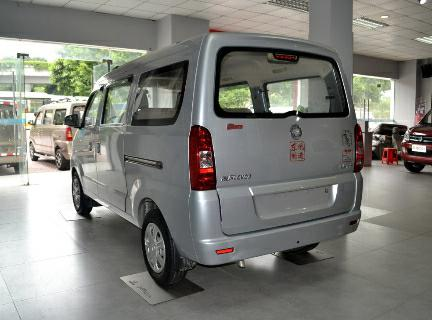东风-俊风CV03: (62, 28, 371, 284)
